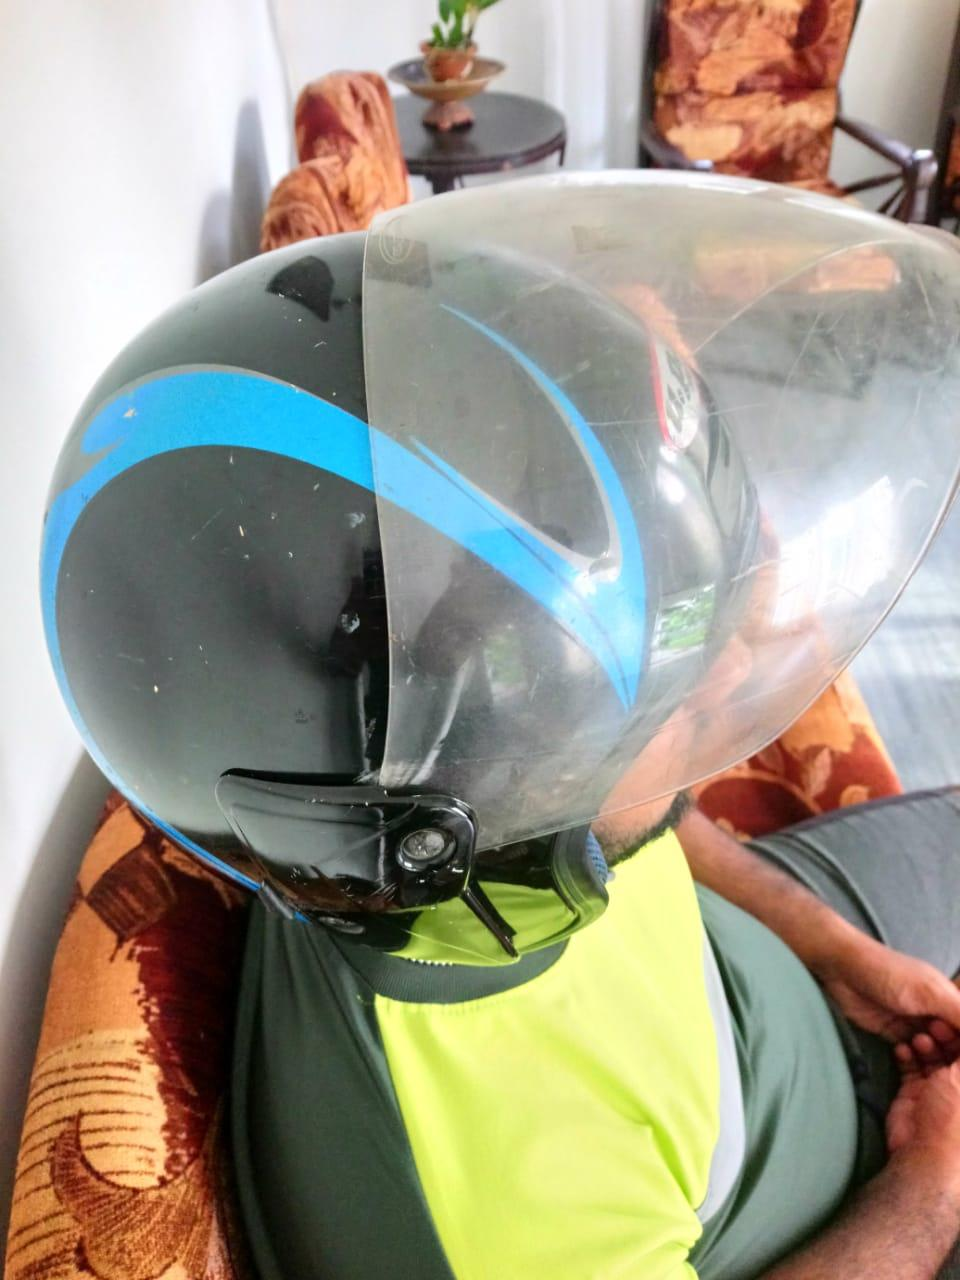helmet: (36, 163, 959, 952)
